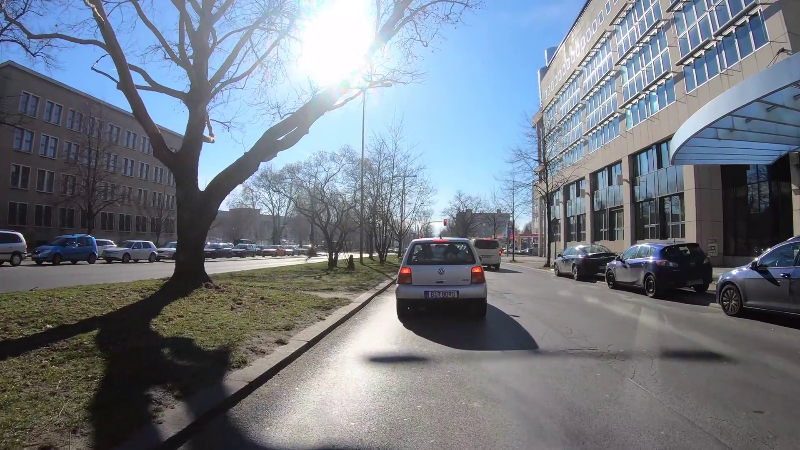Plate: (423, 288, 458, 298), (681, 278, 704, 285), (481, 252, 493, 260)
